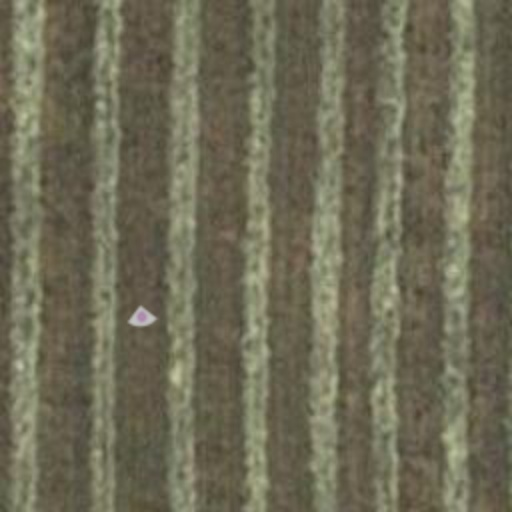quarter_circle: (126, 302, 158, 334)
